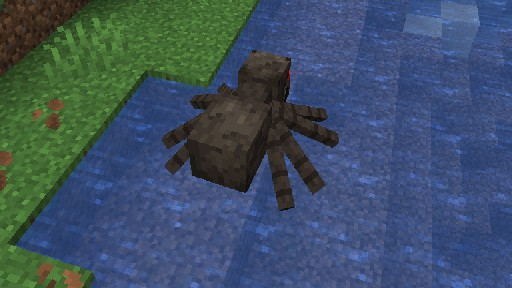spider: (161, 49, 339, 210)
